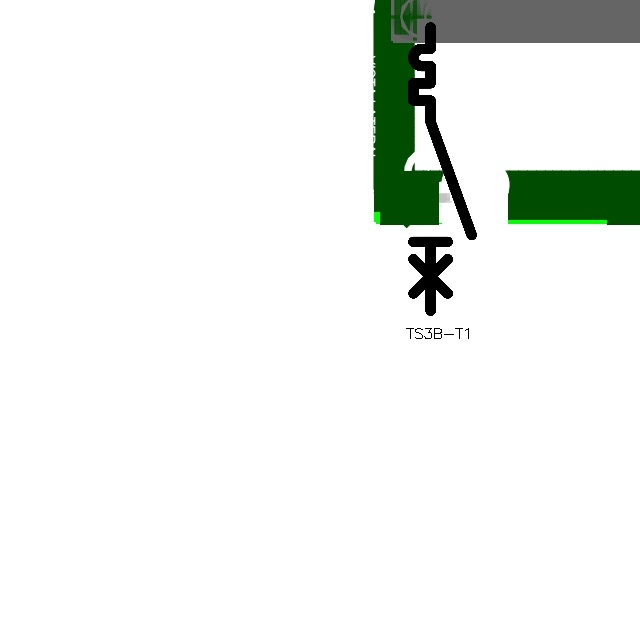interruptor_termomagnetico: (406, 20, 479, 318)
